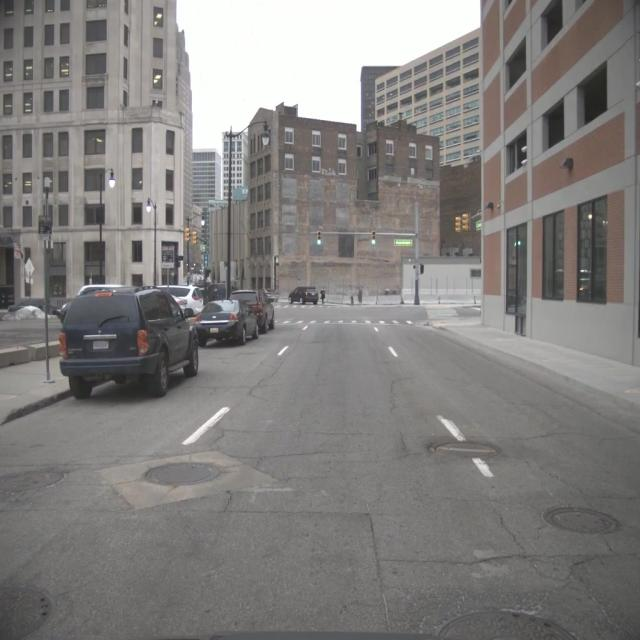humans: (357, 286, 363, 306), (320, 286, 326, 305)
